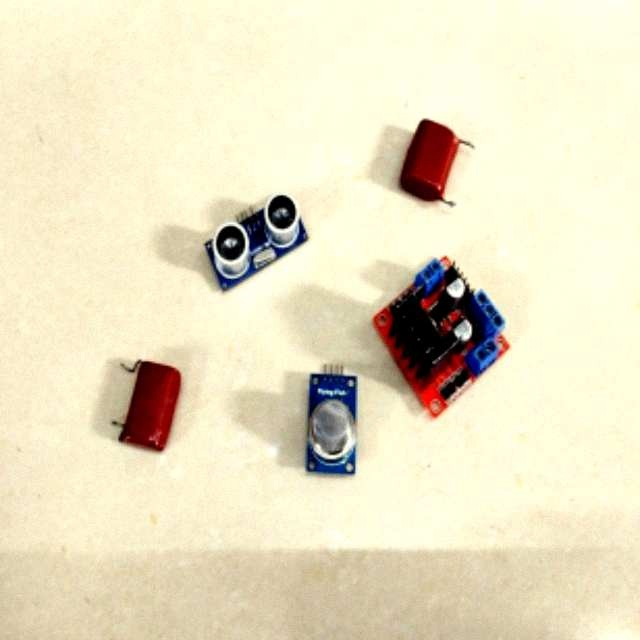capacitor: (124, 361, 181, 451), (401, 120, 459, 201)
